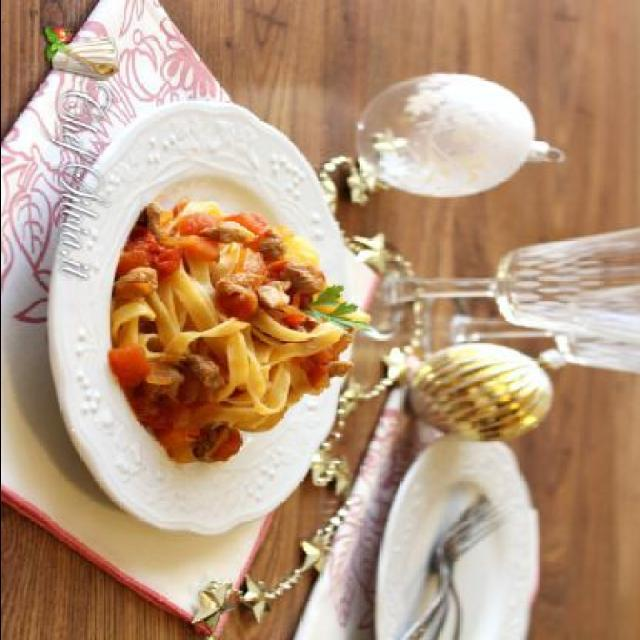Pasta al ragu: (80, 148, 368, 537)
